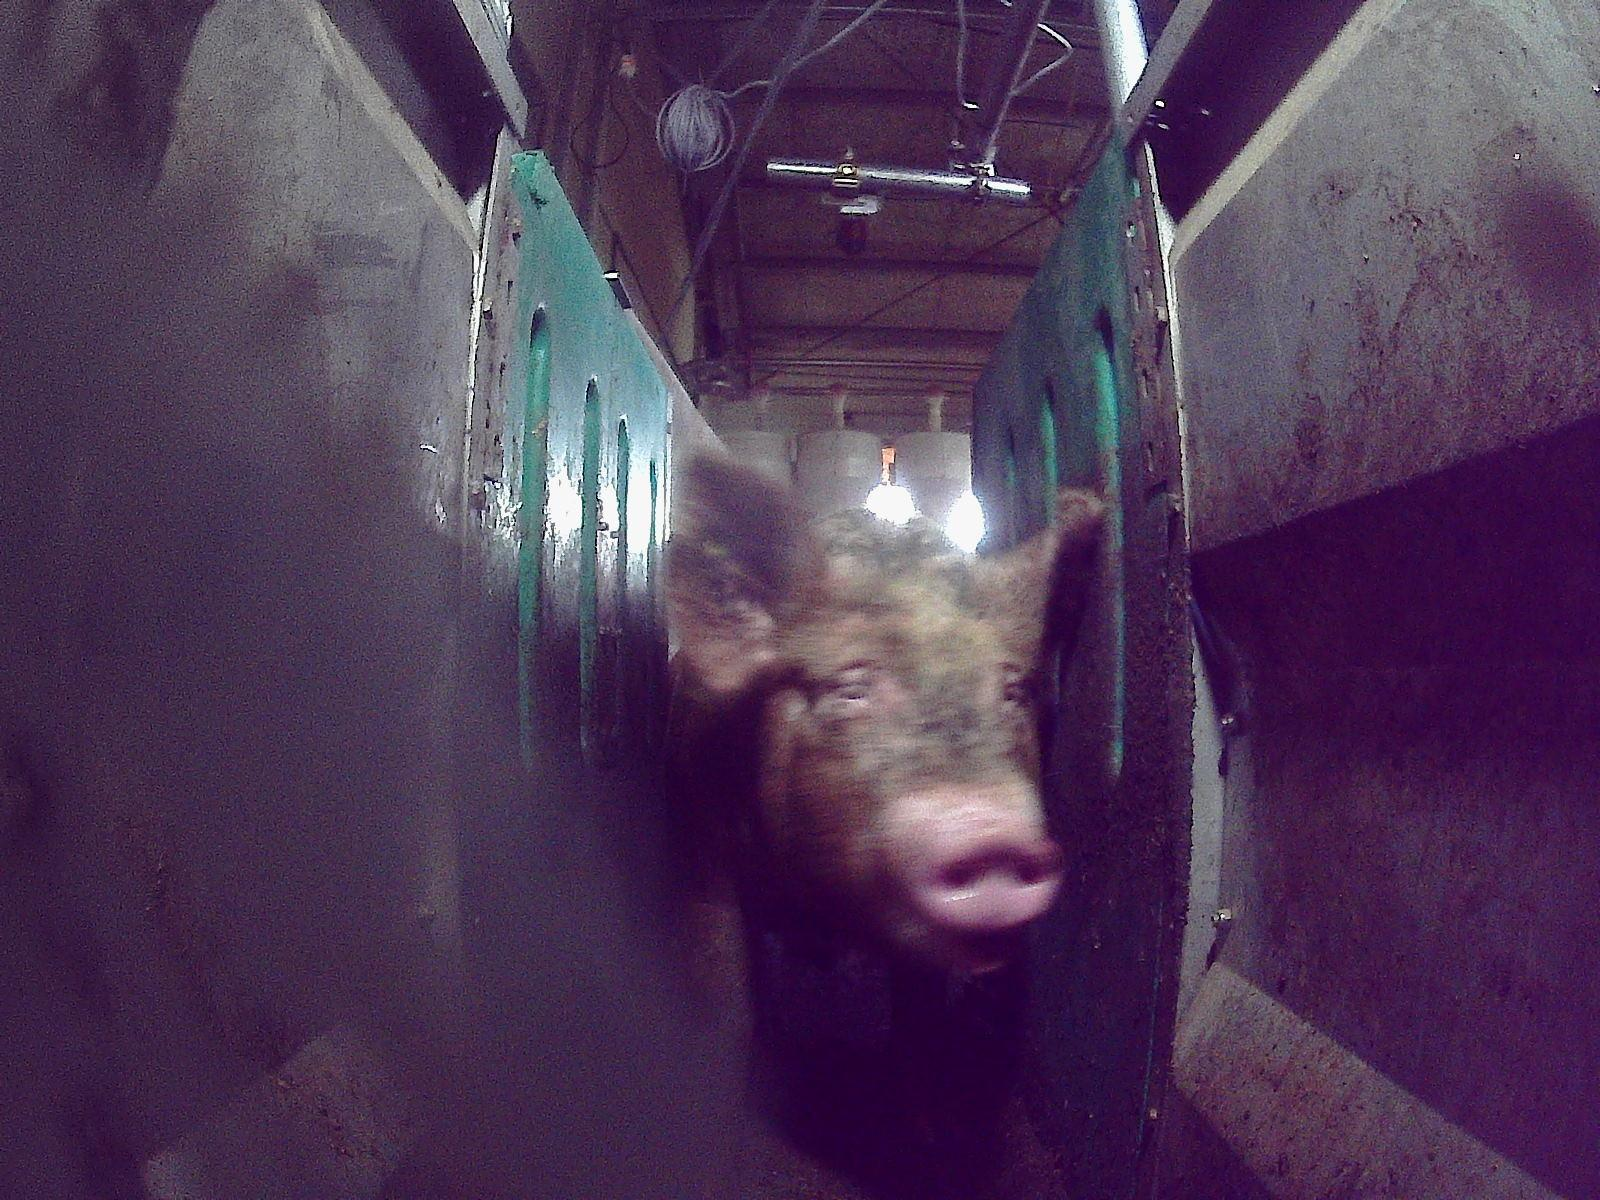Face: (736, 544, 1062, 983)
